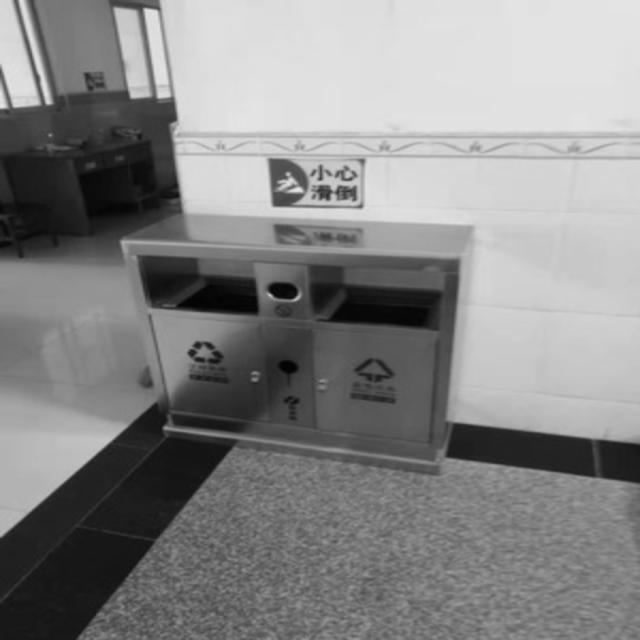ash bin: (115, 213, 476, 475)
